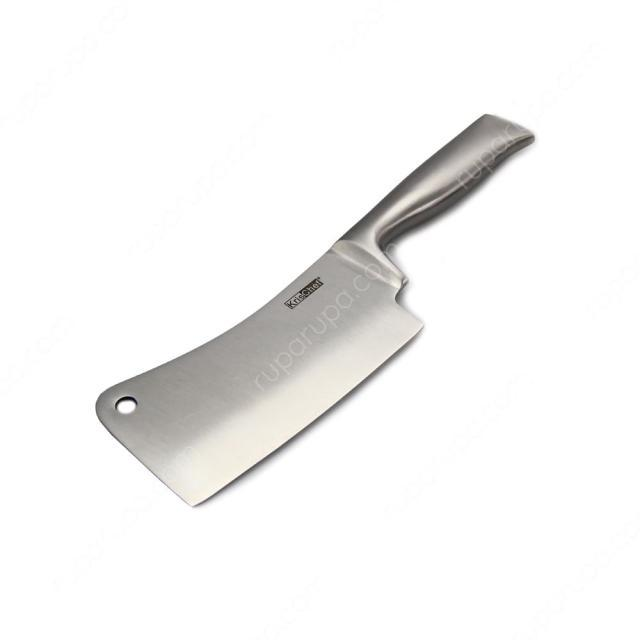Pisau: (80, 103, 553, 525)
